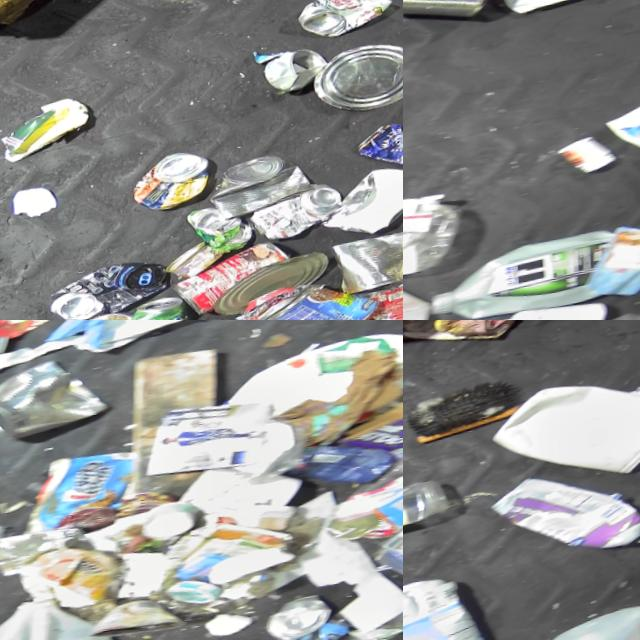can: (483, 460, 640, 582), (0, 352, 119, 450), (173, 243, 303, 320), (208, 153, 324, 231), (308, 41, 403, 130), (216, 256, 340, 320), (50, 258, 177, 320), (250, 186, 352, 252), (131, 152, 220, 221), (264, 275, 394, 320), (293, 0, 398, 51), (331, 236, 403, 306), (92, 594, 197, 640), (188, 205, 262, 265), (403, 0, 505, 39), (264, 50, 335, 104), (270, 597, 344, 640), (330, 516, 403, 559), (354, 126, 403, 189), (168, 243, 232, 288), (349, 286, 403, 320), (131, 296, 202, 320)
milk_jug: (0, 585, 139, 640)
non_white_jug: (429, 233, 631, 320), (403, 572, 508, 640)
plastic_bottle: (403, 185, 473, 314)
